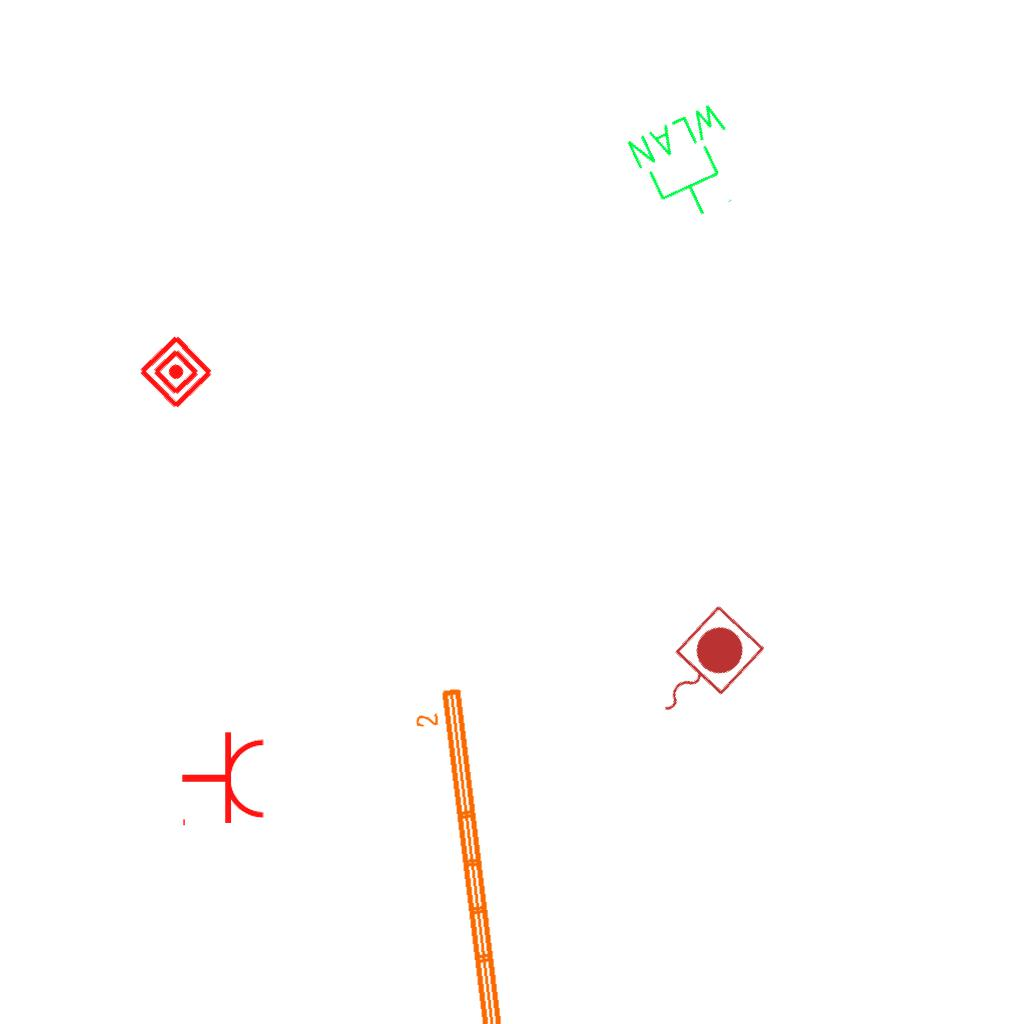Ambulanz_Pendelleuchte_LED: (410, 683, 513, 1024)
NAM-Nichtautomatischer_Melder: (136, 332, 216, 412)
Schukosteckdose_einfach: (180, 730, 267, 830)
WLAN: (621, 96, 761, 235)
Zugtaster: (634, 598, 770, 738)
